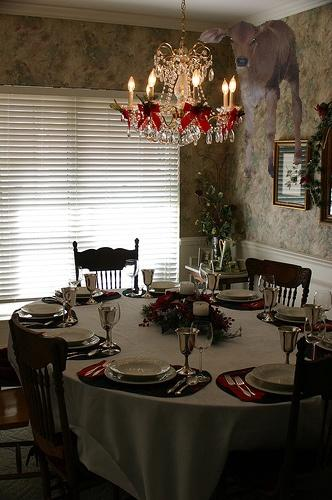tampered: (199, 21, 302, 178)
